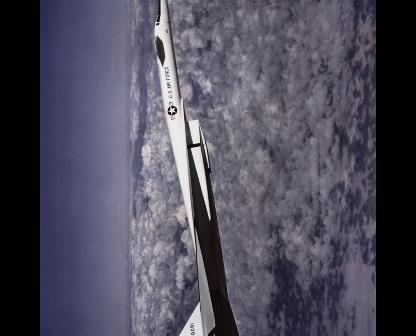U2: (153, 0, 253, 333)
